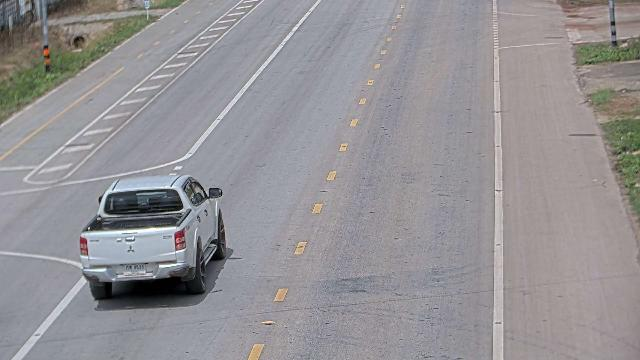pickup-truck: (78, 172, 227, 300)
